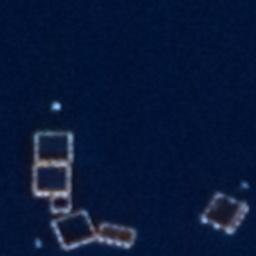square_solid: (197, 188, 251, 237), (49, 206, 101, 252), (31, 127, 77, 167), (29, 161, 75, 200)
